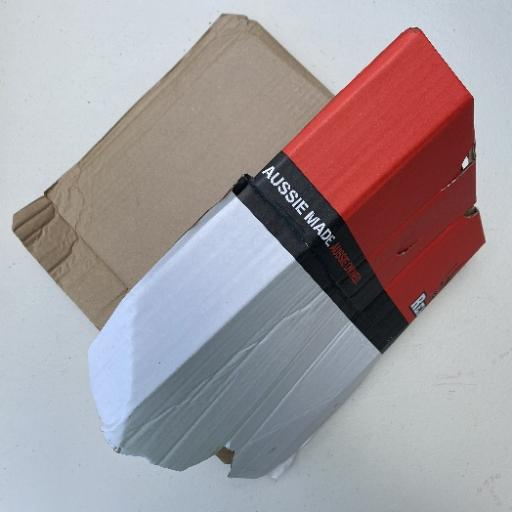Cardboard: (12, 12, 488, 480)
